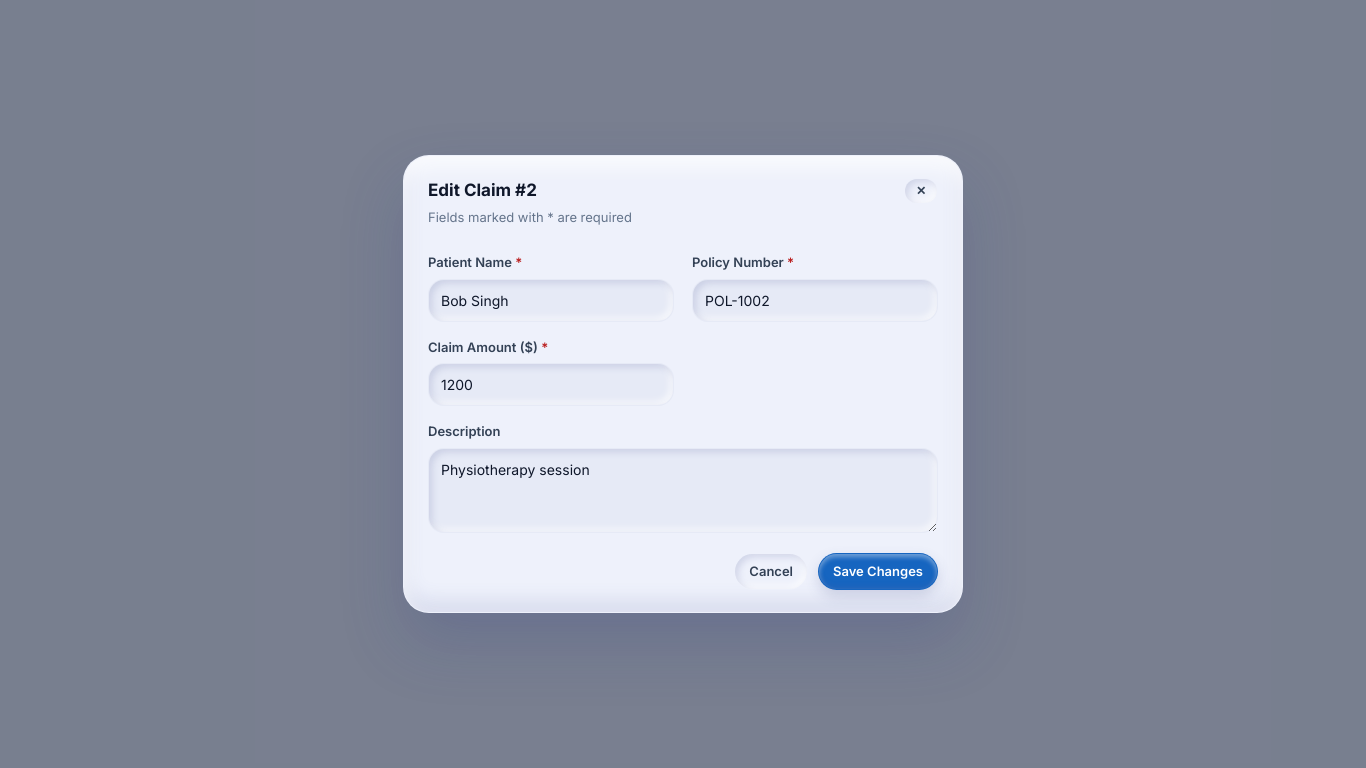
it: EditClaimModal › blocks submit with a required error when a field is cleared
The width and height of the screenshot is (1366, 768).
Step 1. Clear the field named "patientName" below "Patient Name" → x=551, y=300, box [428,278,674,322]
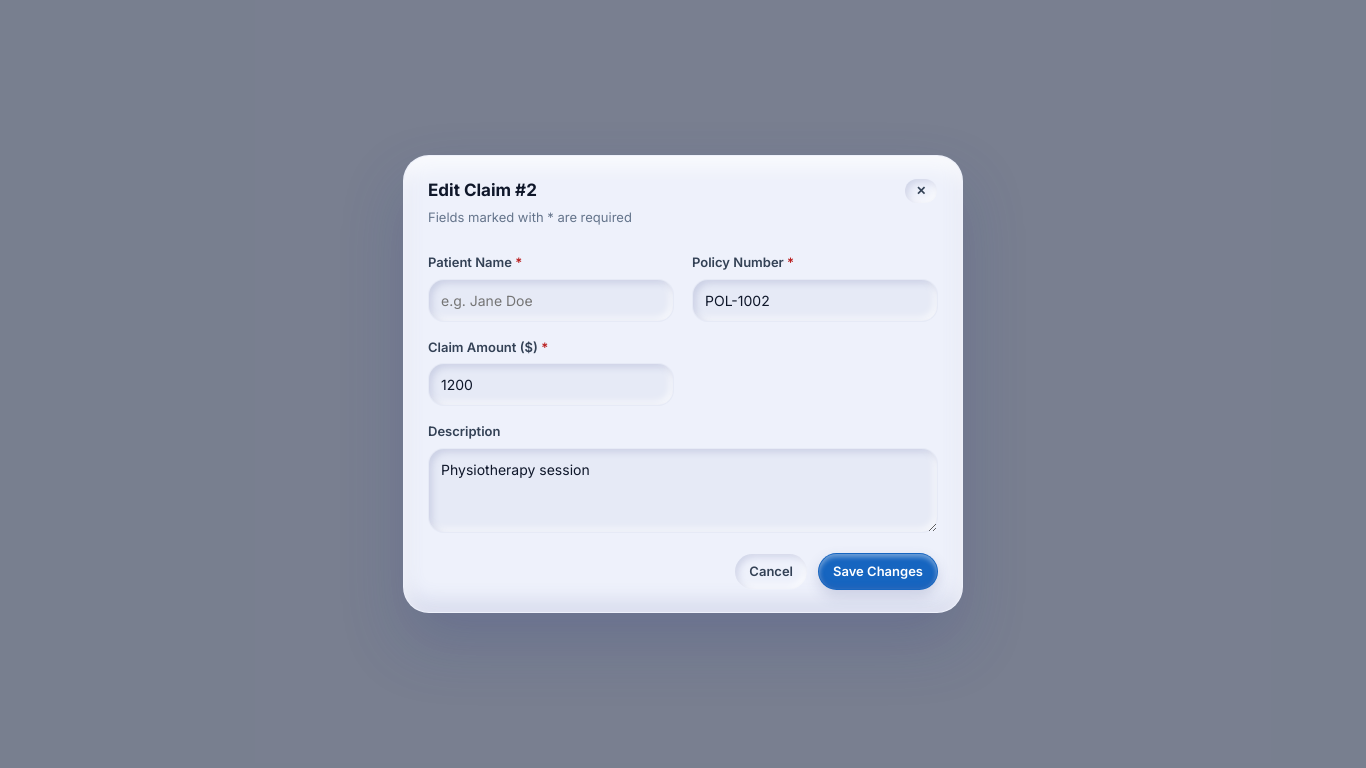
Step 2. Submit the form, box [428,253,938,590]
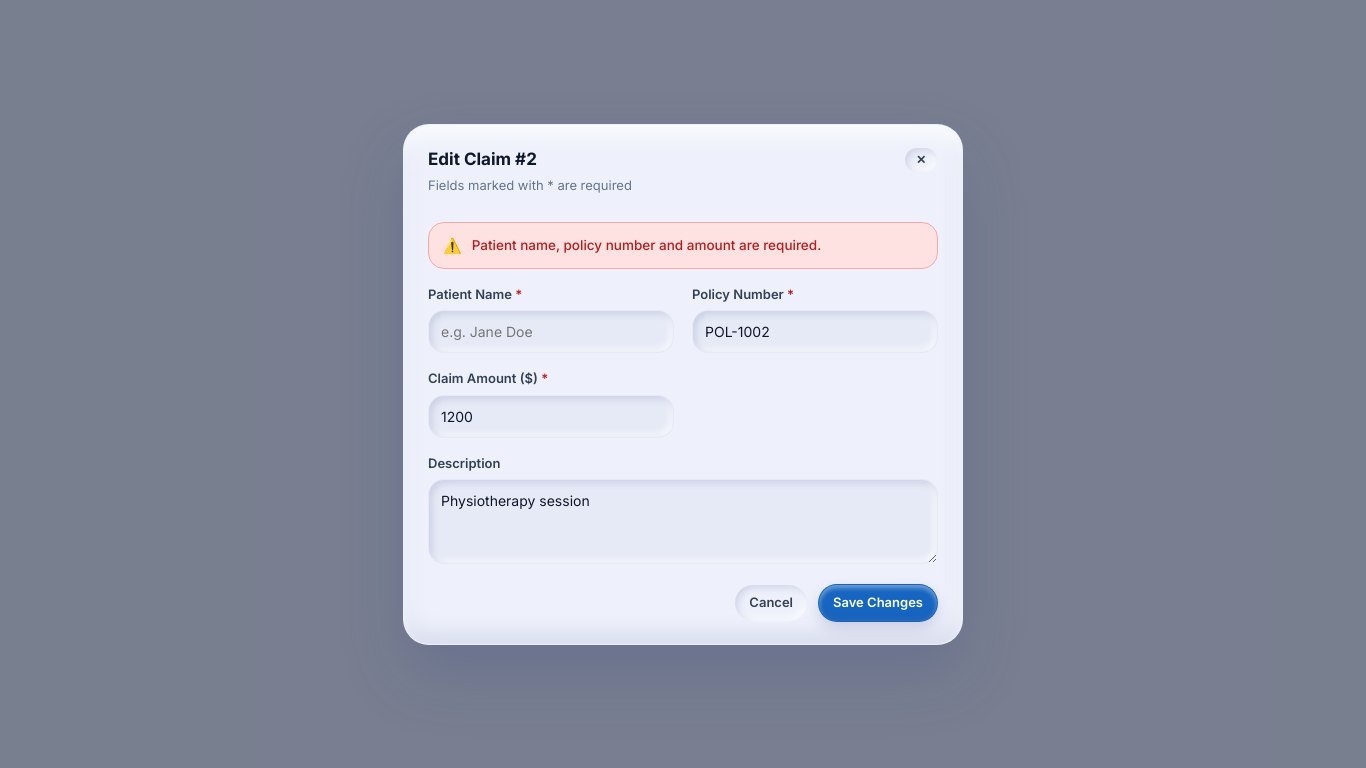
Now the element with class "alert--error" is shown, box [428,222,938,268]
